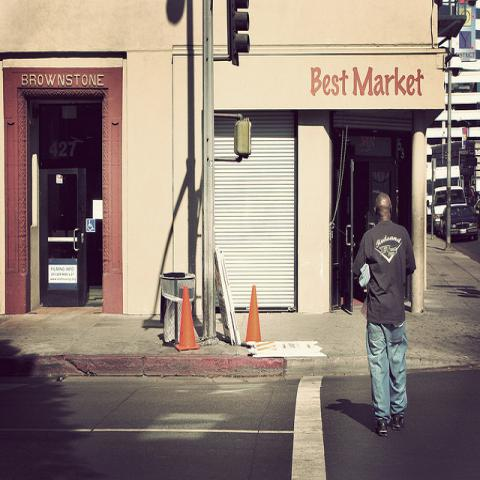car: (434, 186, 468, 232), (440, 206, 478, 242), (434, 165, 461, 189), (468, 185, 480, 200)
